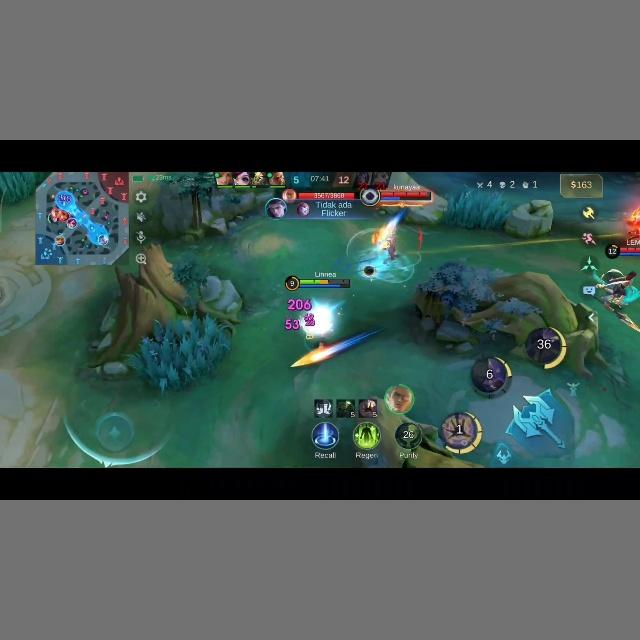hp_enemy: (367, 188, 429, 206), (604, 243, 638, 259)
hp_self: (281, 276, 349, 292)
minion_enemy: (631, 205, 640, 228)
